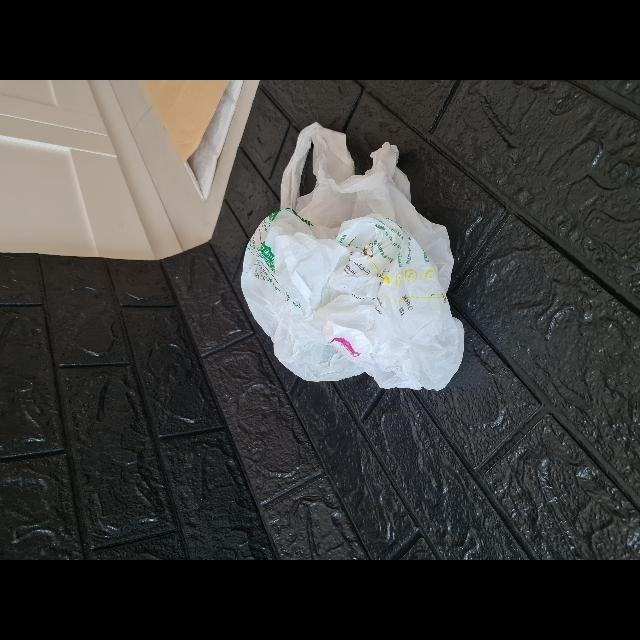sacola plástica: (238, 122, 466, 394)
